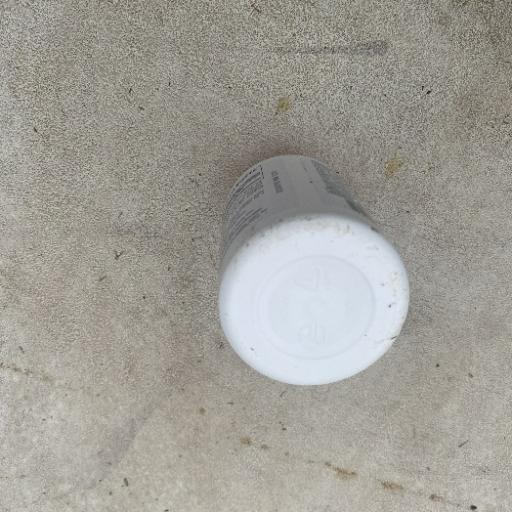Plastic: (213, 151, 412, 389)
